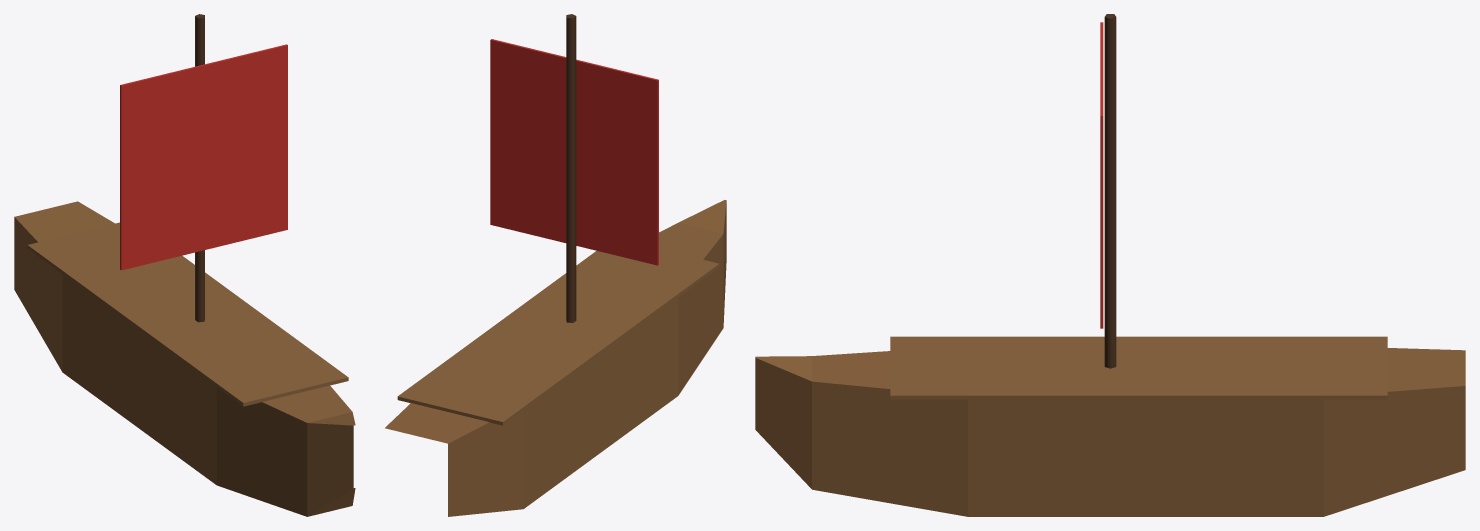
The model's file is veh_naval_warship_a02_lod2.glb.
3 renders of one model, left to right at view 1: azimuth 30°, elevation 25°; view 2: azimuth 150°, elevation 25°; view 3: azimuth 270°, elevation 25°, orthographic. The views are drawn at different scales.
Parts seen in each view (by area): view 1: body, sail_0; view 2: body, sail_0; view 3: body, sail_0.
Part boxes in pixels (<box>): body: <box>14,14,355,516</box>; sail_0: <box>120,44,287,270</box>; body: <box>385,14,726,516</box>; sail_0: <box>490,39,658,265</box>; body: <box>755,14,1465,516</box>; sail_0: <box>1100,22,1103,328</box>.
Size of the model in its own units: 3.87 by 9.16 by 12.4.
